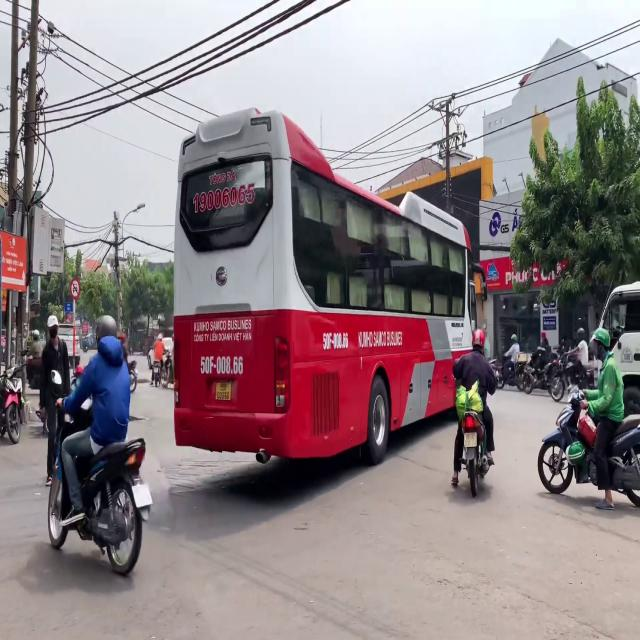bien_vang: (214, 378, 232, 403)
